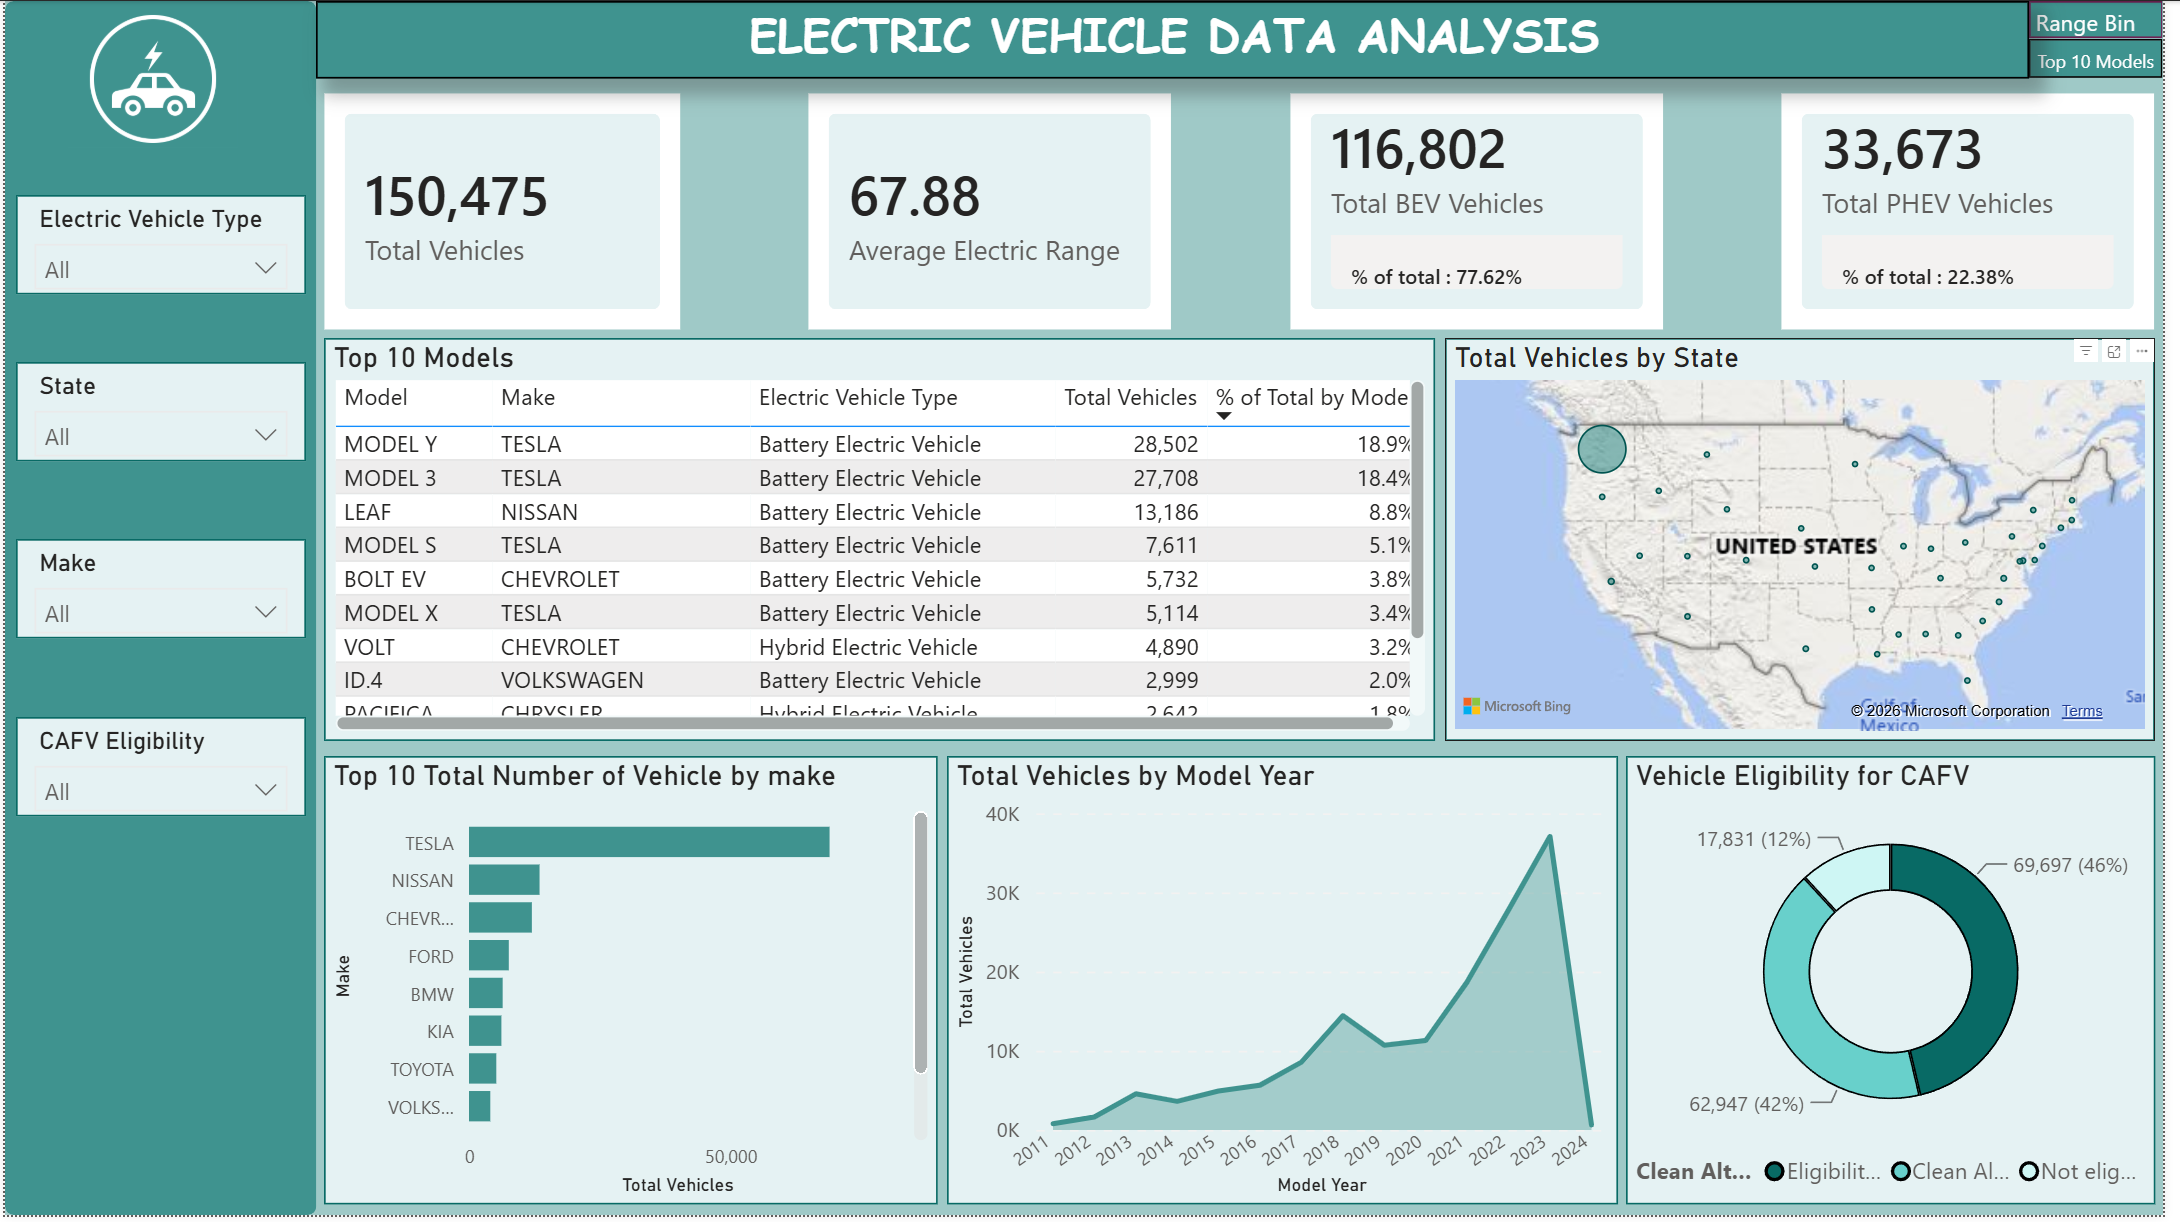

What the dashboard file says about the page in this screenshot:
{"tool":"powerbi","page":{"name":"Dash Board","canvas":[1280,720],"ordinal":9},"visuals":[{"type":"cardVisual","fields":{"Data":["Electric_Vehicle_Population_Data.Total Vehicles"]},"box":[184.5,49.9,221.4,150.2],"z":0},{"type":"cardVisual","fields":{"Data":["Electric_Vehicle_Population_Data.Average Electric Range"]},"box":[471.3,50,225.3,150],"z":1000},{"type":"cardVisual","fields":{"Data":["Electric_Vehicle_Population_Data.Total PHEV Display"]},"box":[1048.9,49.9,231.1,150.2],"z":2000},{"type":"cardVisual","fields":{"Data":["Electric_Vehicle_Population_Data.Total BEV Vehicles"]},"box":[757.5,49.9,231.8,150.2],"z":3000},{"type":"areaChart","fields":{"Category":["Electric_Vehicle_Population_Data.Model Year"],"Y":["Electric_Vehicle_Population_Data.Total Vehicles"]},"box":[558.7,448,398,266],"z":4000},{"type":"map","fields":{"Category":["Electric_Vehicle_Population_Data.State"],"Size":["Electric_Vehicle_Population_Data.Total Vehicles"]},"box":[854,200,421.3,238.7],"z":5000},{"type":"barChart","title":"Top 10 Total Number of Vehicle by make","fields":{"Category":["Electric_Vehicle_Population_Data.Make"],"Y":["Electric_Vehicle_Population_Data.Total Vehicles"]},"box":[189.3,448,364,266],"z":6000},{"type":"donutChart","title":"Vehicle Eligibility for CAFV","fields":{"Category":["Electric_Vehicle_Population_Data.Clean Alternative Fuel Vehicle (CAFV) Eligibility"],"Y":["Electric_Vehicle_Population_Data.Total Vehicles"]},"box":[961.3,448,314,266],"z":7000},{"type":"actionButton","box":[1200.7,22.7,79.3,23.3],"z":8000},{"type":"actionButton","box":[1200.7,0,79.3,22],"z":9000},{"type":"tableEx","title":"Top 10 Models","fields":{"Values":["Electric_Vehicle_Population_Data.Model","Electric_Vehicle_Population_Data.Make","Electric_Vehicle_Population_Data.Electric Vehicle Type","Electric_Vehicle_Population_Data.Total Vehicles","Electric_Vehicle_Population_Data.% of Total by Model"]},"box":[189.3,200,659.3,238.7],"z":10000},{"type":"shape","box":[0,0,184.7,720],"z":11000},{"type":"slicer","fields":{"Values":["Electric_Vehicle_Population_Data.Electric Vehicle Type"]},"box":[6.7,115.3,172,59.3],"z":12000},{"type":"slicer","fields":{"Values":["Electric_Vehicle_Population_Data.State"]},"box":[6.7,214,172,59.3],"z":13000},{"type":"slicer","fields":{"Values":["Electric_Vehicle_Population_Data.Make"]},"box":[6.7,319.3,172,59.3],"z":14000},{"type":"slicer","fields":{"Values":["Electric_Vehicle_Population_Data.Clean Alternative Fuel Vehicle (CAFV) Eligibility"]},"box":[6.7,424.7,172,59.3],"z":15000},{"type":"textbox","title":"             ELECTRIC VEHICLE DATA ANALYSIS","box":[184.7,0,1016,46],"z":17000},{"type":"image","box":[36.7,4.7,102,82.7],"z":17001}]}

Visuals, with their boxes in screenshot pixels (x1, y1, x2, y2), scaled from the page's 1280x720 canvas onto the 2180x1222 screenshot:
cardVisual - Electric_Vehicle_Population_Data.Total Vehicles: select_region(314, 85, 691, 340)
cardVisual - Electric_Vehicle_Population_Data.Average Electric Range: select_region(803, 85, 1186, 339)
cardVisual - Electric_Vehicle_Population_Data.Total PHEV Display: select_region(1786, 85, 2179, 340)
cardVisual - Electric_Vehicle_Population_Data.Total BEV Vehicles: select_region(1290, 85, 1685, 340)
areaChart - Electric_Vehicle_Population_Data.Model Year x Electric_Vehicle_Population_Data.Total Vehicles: select_region(952, 760, 1629, 1212)
map - Electric_Vehicle_Population_Data.State x Electric_Vehicle_Population_Data.Total Vehicles: select_region(1454, 339, 2172, 745)
"Top 10 Total Number of Vehicle by make" barChart: select_region(322, 760, 942, 1212)
"Vehicle Eligibility for CAFV" donutChart: select_region(1637, 760, 2172, 1212)
actionButton: select_region(2045, 39, 2179, 78)
actionButton: select_region(2045, 0, 2179, 37)
"Top 10 Models" tableEx: select_region(322, 339, 1445, 745)
shape: select_region(0, 0, 315, 1221)
slicer - Electric_Vehicle_Population_Data.Electric Vehicle Type: select_region(11, 196, 304, 296)
slicer - Electric_Vehicle_Population_Data.State: select_region(11, 363, 304, 464)
slicer - Electric_Vehicle_Population_Data.Make: select_region(11, 542, 304, 643)
slicer - Electric_Vehicle_Population_Data.Clean Alternative Fuel Vehicle (CAFV) Eligibility: select_region(11, 721, 304, 821)
"             ELECTRIC VEHICLE DATA ANALYSIS" textbox: select_region(315, 0, 2045, 78)
image: select_region(63, 8, 236, 148)
